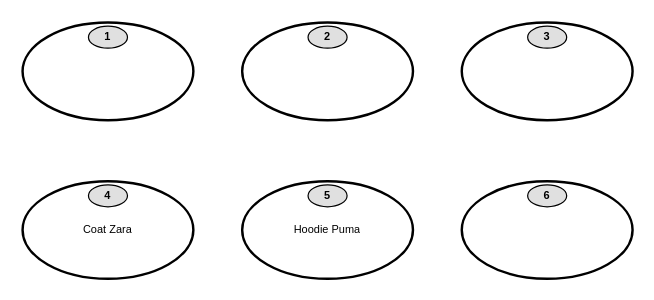
Some shapes in this 654 by 300 pixel diagram are drawn without their labels. Each missing label, with the box of its shape:
Jeans Levi's 501: (460, 21, 633, 121)
Shirt H&M: (460, 179, 633, 279)
Sneakers Adidas: (240, 21, 414, 121)
T-Shirt Nike Dri-Fit: (21, 21, 194, 121)
